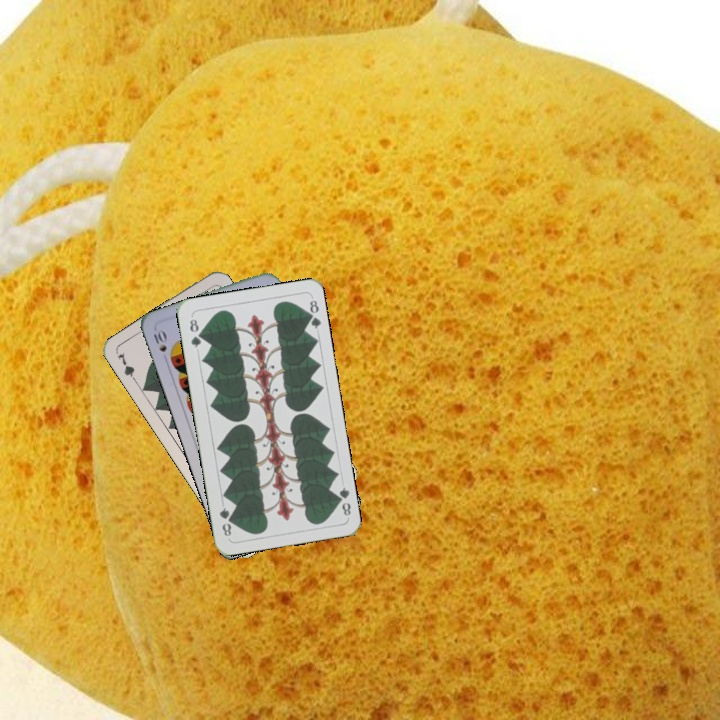G7: (113, 348, 140, 386)
G8: (332, 483, 354, 518), (185, 313, 204, 350)
S10: (148, 325, 169, 354)
